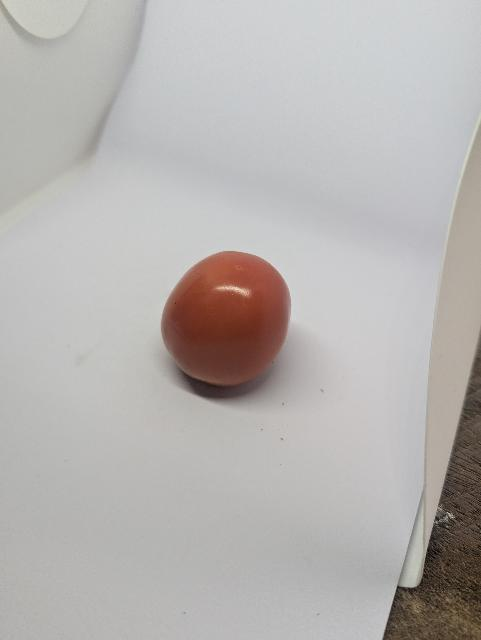red: (159, 245, 296, 414)
